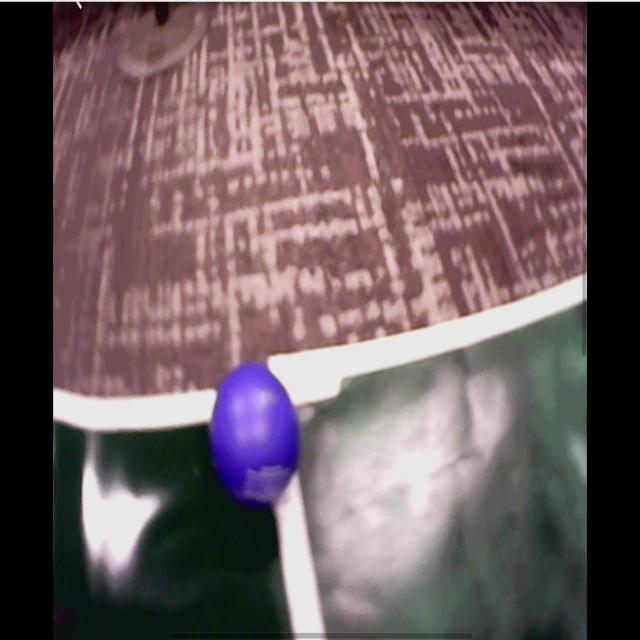ball: (211, 366, 300, 503)
